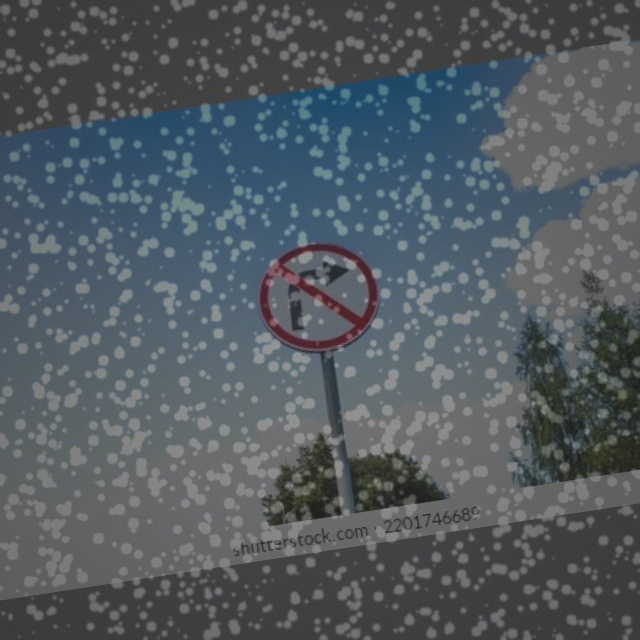Right_Turn_Prohibited: (251, 232, 386, 363)
